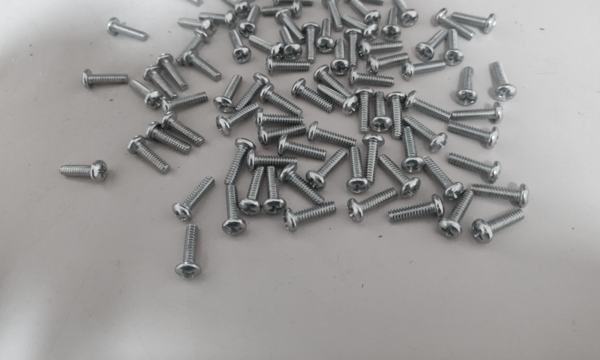shortscrew: (471, 208, 526, 245), (173, 176, 216, 222), (422, 155, 464, 201), (378, 155, 422, 198), (280, 163, 324, 205), (438, 189, 474, 240), (306, 149, 348, 192), (347, 188, 399, 222), (127, 135, 171, 174), (388, 194, 445, 224), (284, 201, 337, 233), (448, 153, 502, 184), (403, 116, 448, 153), (161, 111, 206, 147), (145, 121, 192, 155), (471, 183, 531, 208), (404, 90, 452, 121), (225, 139, 257, 185), (292, 79, 335, 113), (176, 225, 203, 279), (216, 103, 260, 136), (259, 84, 303, 117), (234, 74, 271, 112), (448, 122, 500, 149), (307, 121, 357, 148), (278, 134, 327, 161), (434, 8, 475, 40), (238, 168, 265, 216), (183, 49, 222, 82), (222, 185, 247, 236), (362, 134, 386, 187), (143, 65, 179, 100), (177, 28, 211, 65), (314, 65, 353, 97), (318, 85, 359, 115), (346, 147, 371, 195), (258, 124, 308, 148), (156, 53, 188, 90), (263, 167, 287, 216), (451, 103, 503, 125), (214, 74, 243, 113), (59, 160, 108, 183), (247, 150, 298, 172), (401, 58, 447, 82), (401, 127, 424, 174), (452, 11, 497, 35), (82, 68, 130, 90), (385, 92, 407, 140), (416, 29, 448, 62), (492, 61, 518, 101), (366, 53, 411, 76), (349, 66, 394, 89), (276, 9, 306, 43), (129, 79, 163, 109), (161, 92, 209, 113), (256, 108, 305, 128), (343, 14, 379, 41), (107, 18, 149, 41), (370, 91, 393, 133), (355, 88, 376, 134), (249, 34, 286, 60), (265, 55, 311, 75), (359, 38, 404, 58), (456, 67, 478, 107), (350, 0, 381, 28), (261, 0, 304, 20), (279, 26, 303, 61), (344, 28, 364, 69), (229, 30, 252, 65), (199, 10, 238, 30), (445, 29, 465, 67), (393, 0, 419, 28), (322, 0, 344, 32), (331, 39, 350, 76), (239, 5, 260, 38), (382, 8, 402, 42), (178, 17, 217, 34), (220, 0, 251, 19), (273, 0, 315, 7), (345, 0, 385, 7), (167, 0, 203, 6), (228, 0, 259, 3)
